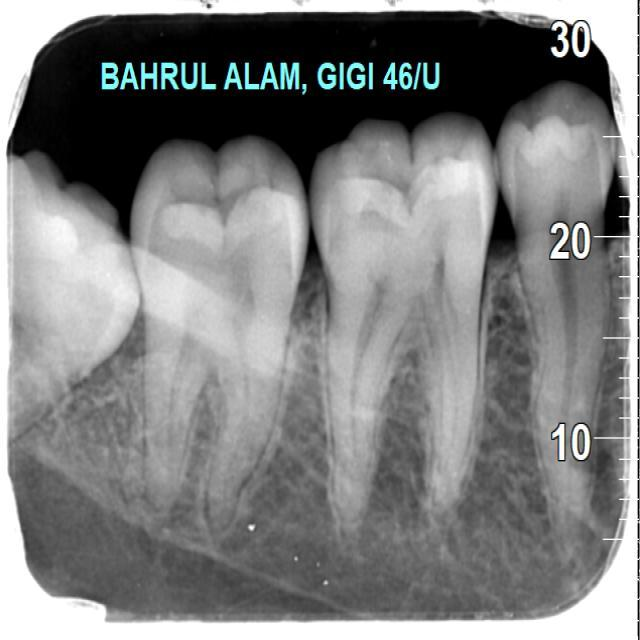individual-tooth-8tto: (305, 118, 501, 531), (128, 132, 307, 541), (491, 82, 627, 562)
